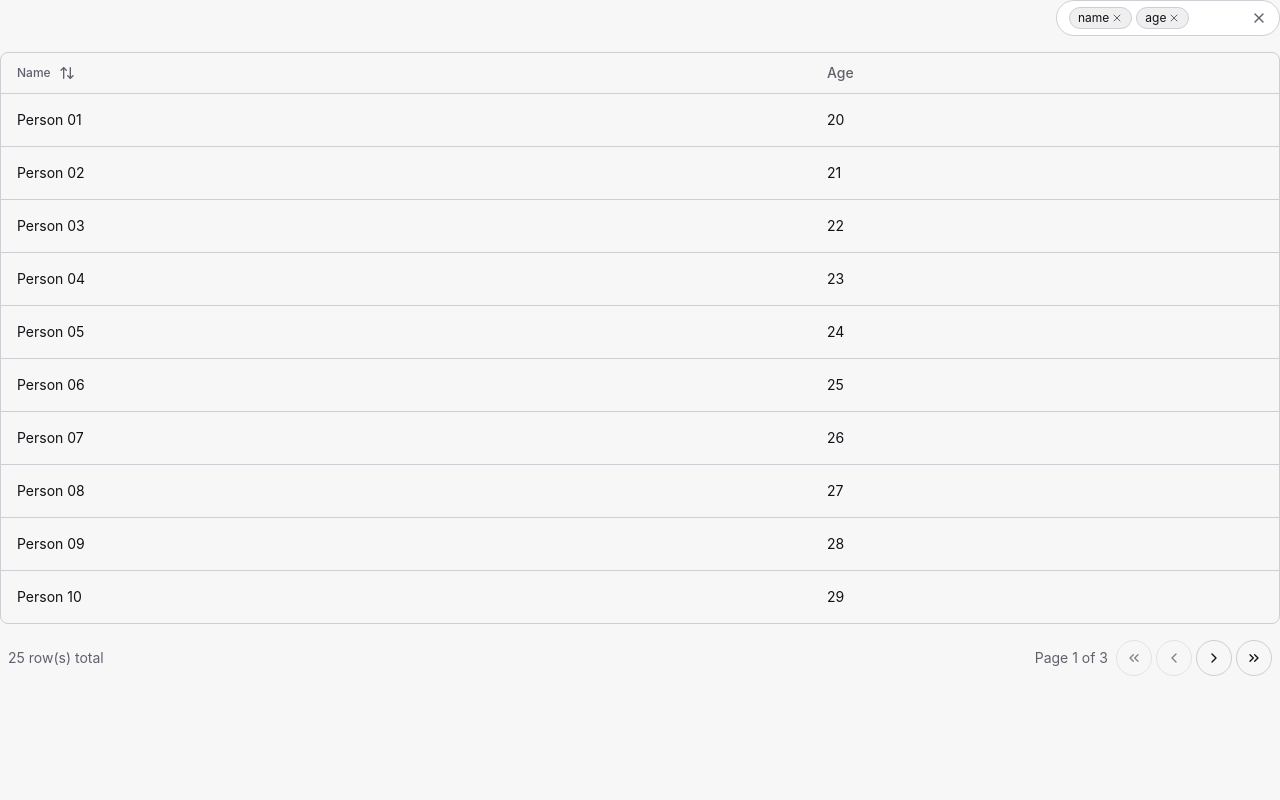
it: DataTable › paginates with next / previous / first / last controls
Expected: the text "25 row(s) total" is shown, [8,648,104,668]
Expected: the text "Page 1 of 3" is shown, [1035,648,1108,668]
Click the button named "Next page". click: (1214, 658)
box: [1196,640,1232,676]
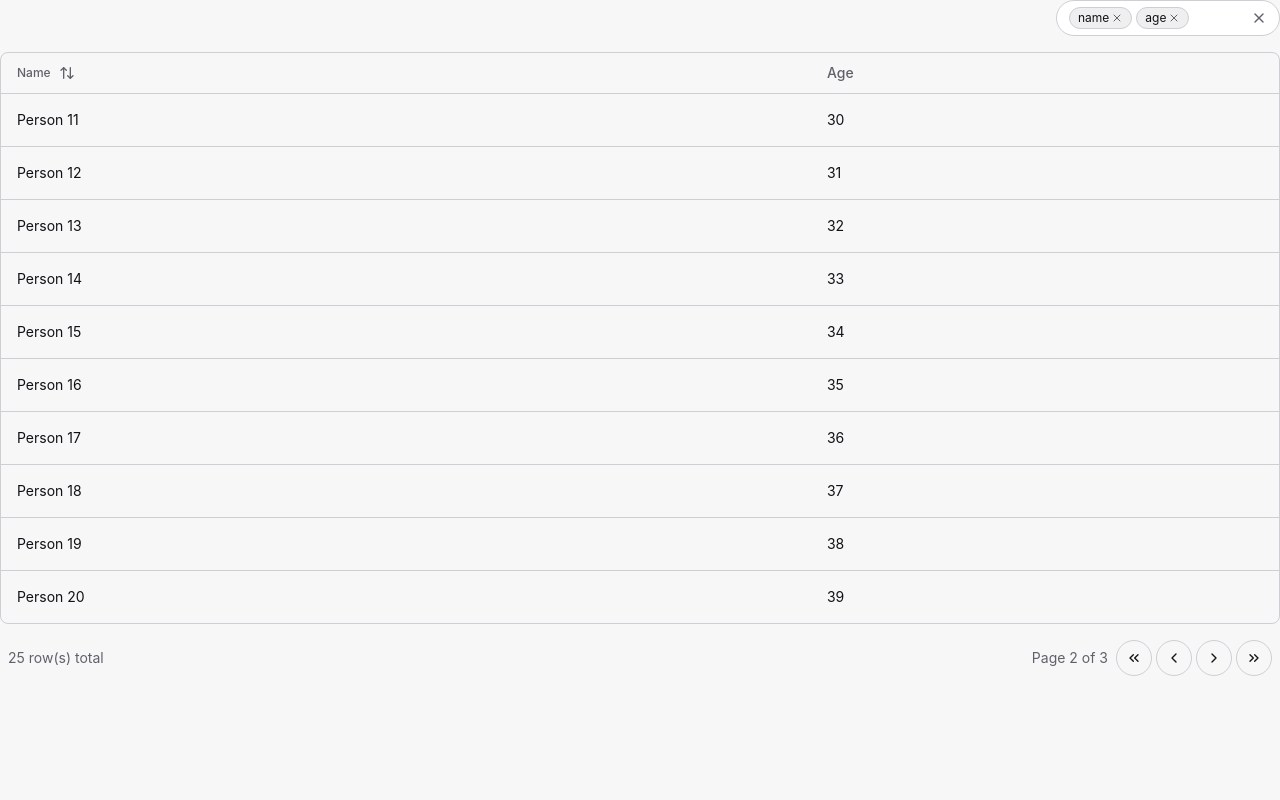
Result: the text "Page 2 of 3" is shown at [1032,648,1108,668]
Result: the text "Person 11" is shown at [17,110,79,128]
Click the button named "Previous page". click: (1174, 658)
box: [1156,640,1192,676]
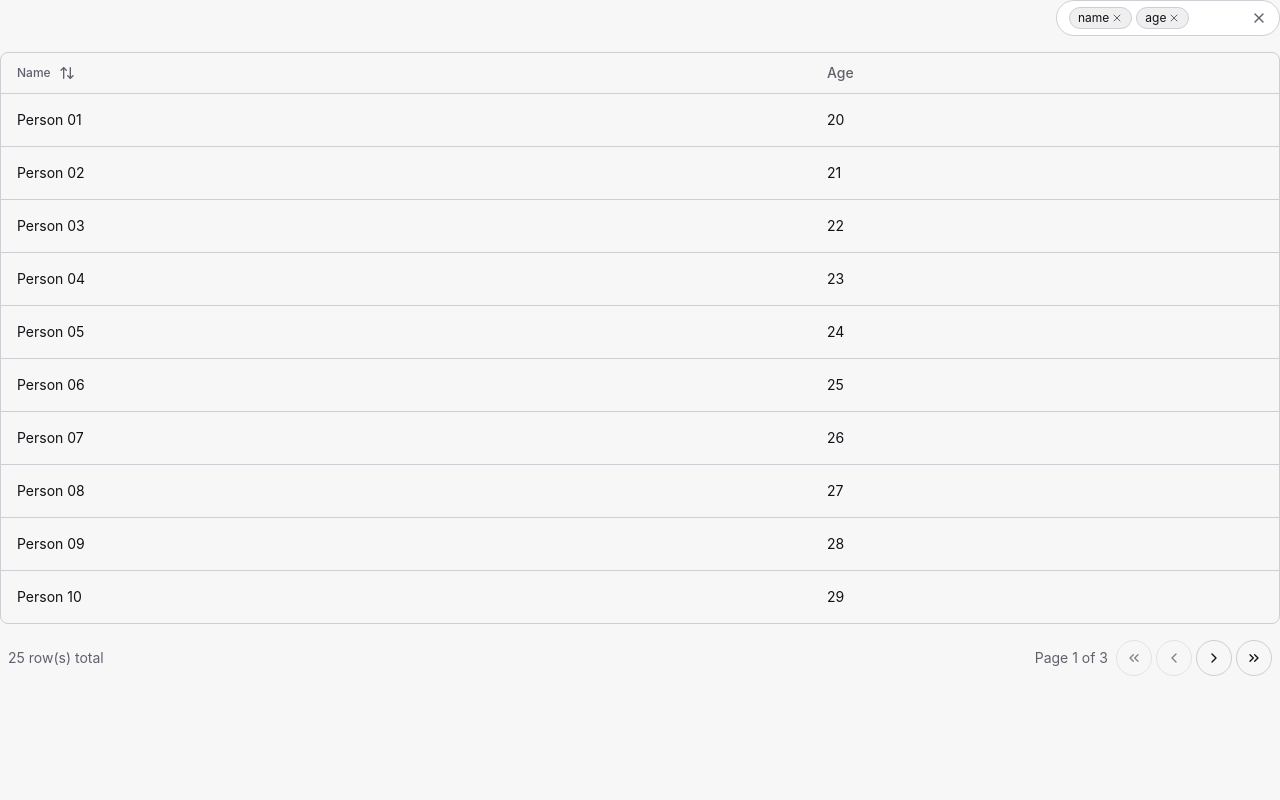
Result: the text "Page 1 of 3" is shown at [1035,648,1108,668]
Result: the text "Person 01" is shown at [17,110,82,128]
Click the button named "Last page". click: (1254, 658)
box: [1236,640,1272,676]
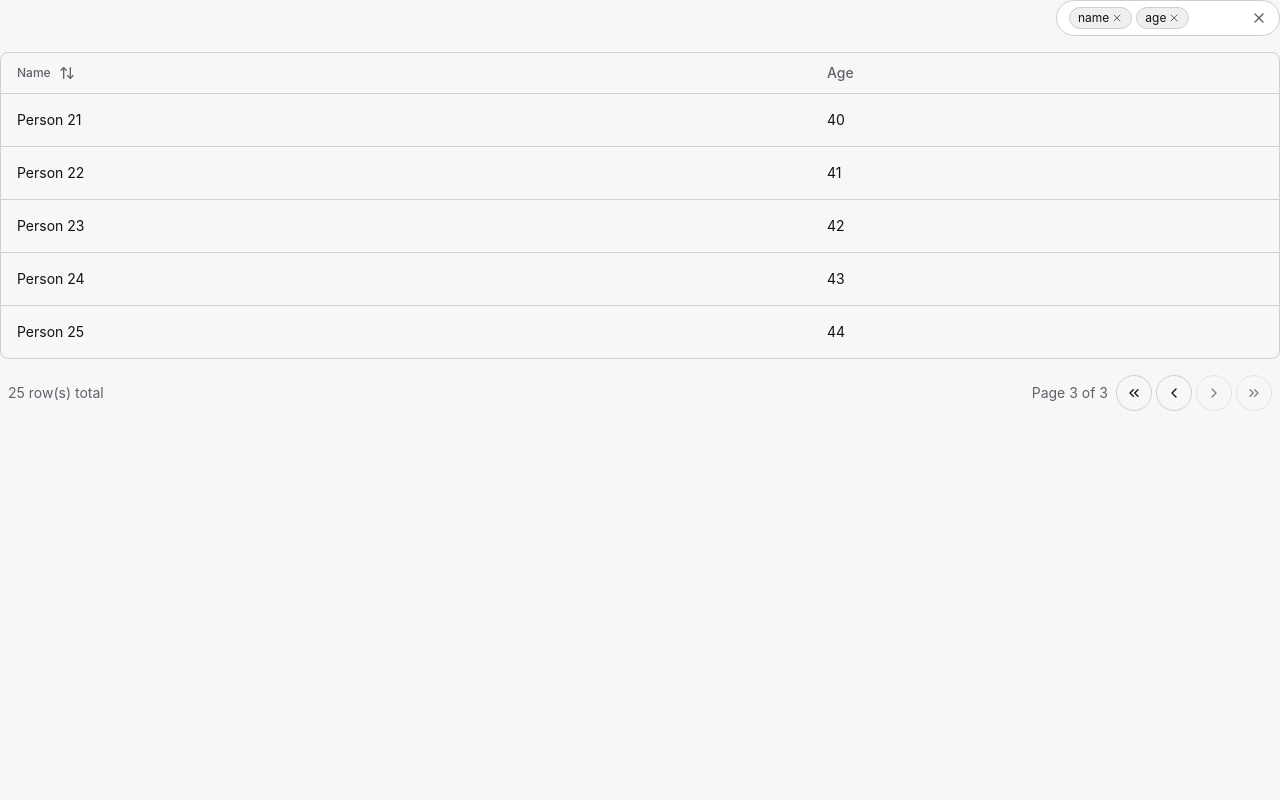
Result: the text "Page 3 of 3" is shown at [1032,382,1108,402]
Result: the text "Person 25" is shown at [17,322,84,340]
Result: the button named "Last page" is disabled at [1236,374,1272,410]
Click the button named "First page". click: (1134, 392)
box: [1116,374,1152,410]
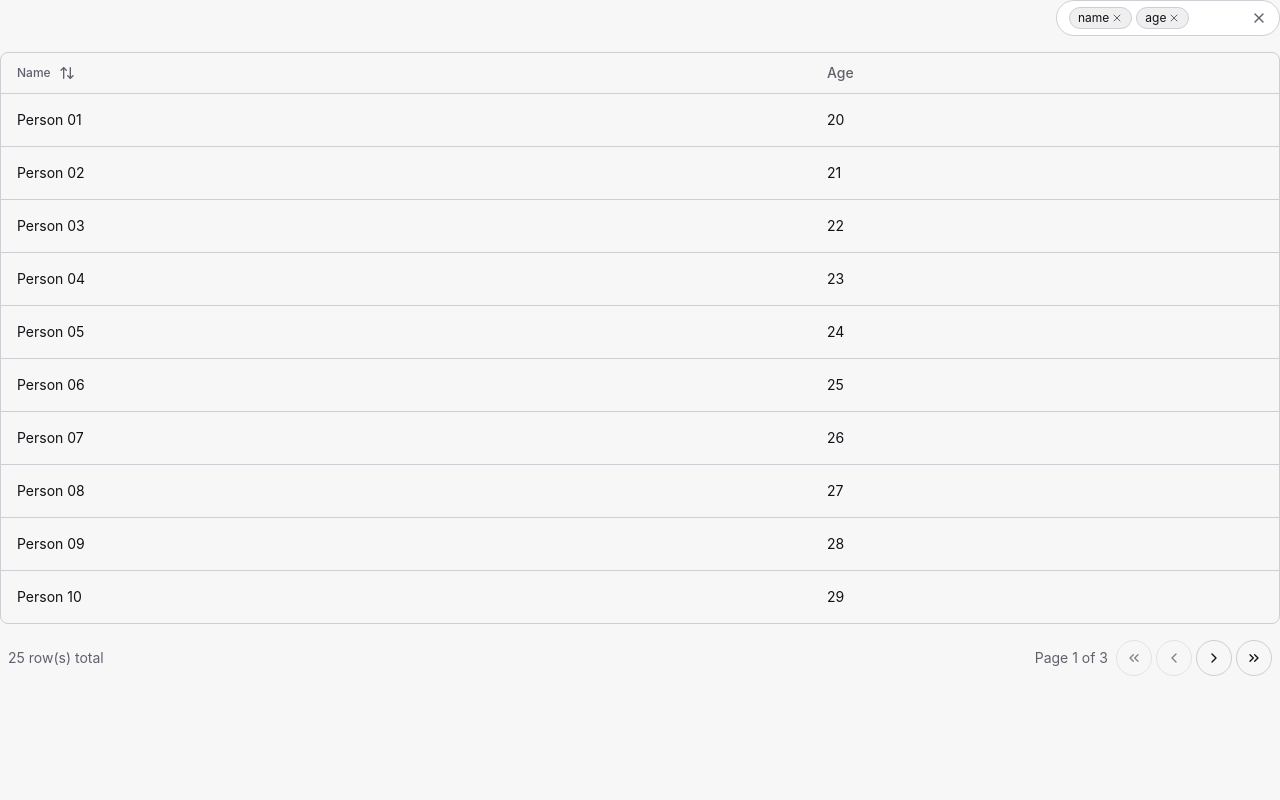
Result: the text "Page 1 of 3" is shown at [1035,648,1108,668]
Result: the text "Person 01" is shown at [17,110,82,128]
